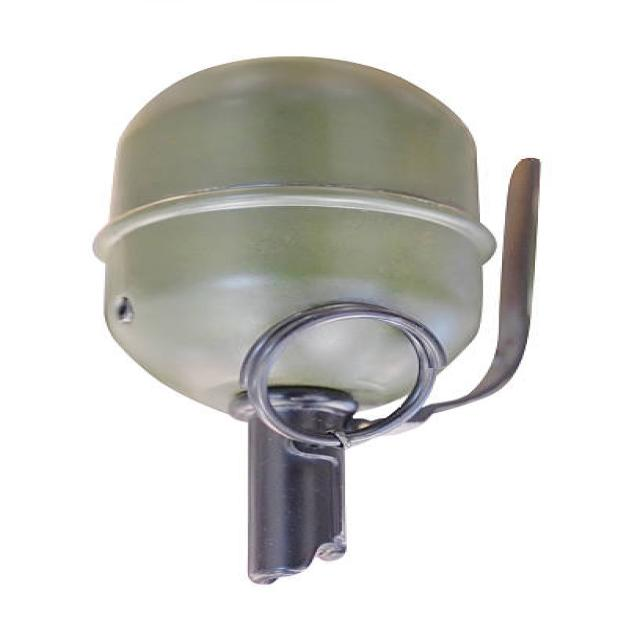grenade: (80, 54, 567, 600)
